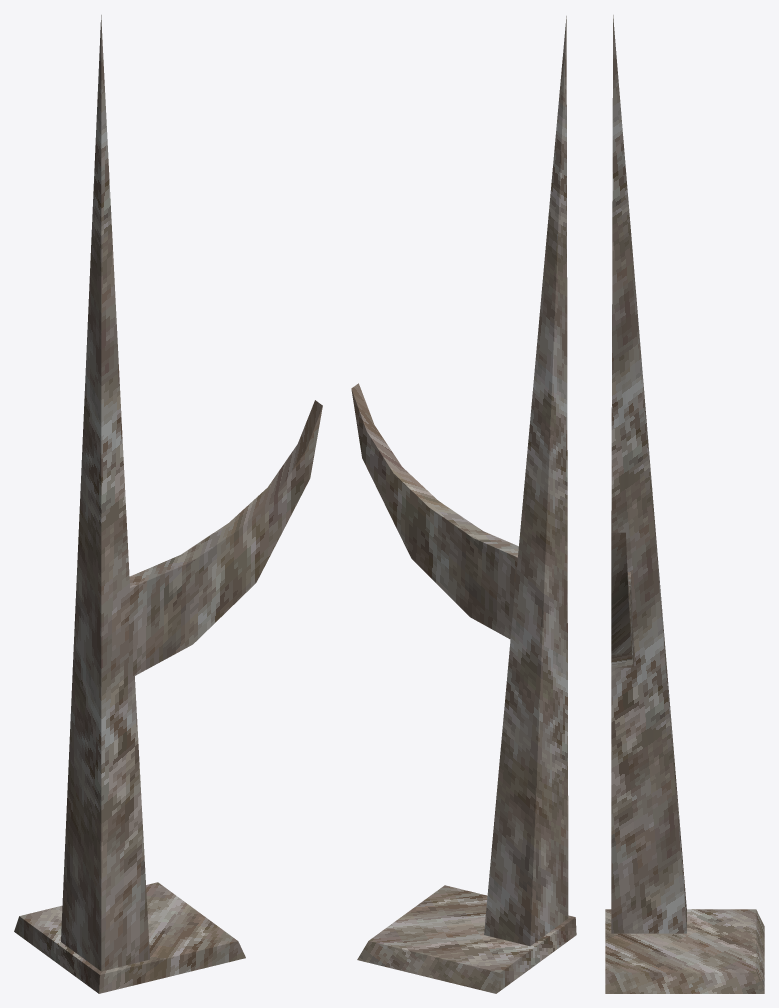
The model's file is frn_quest_fs_sculpture_3_l2.fbx.
The picture shows the model from 3 angles, left to right: view 1: azimuth 30°, elevation 25°; view 2: azimuth 150°, elevation 25°; view 3: azimuth 270°, elevation 25°; orthographic projection. The views are drawn at different scales.
Parts seen in each view (by area): view 1: mesh_node; view 2: mesh_node; view 3: mesh_node.
Boxes of the visible parts, left/top/right/bottom form: mesh_node: left=14, top=15, right=322, bottom=993; mesh_node: left=351, top=16, right=576, bottom=993; mesh_node: left=605, top=15, right=764, bottom=993.
Bounding box in the file's own units: 0.6172 × 2.53 × 0.4.
Materials: 1 (1 with a texture image).
